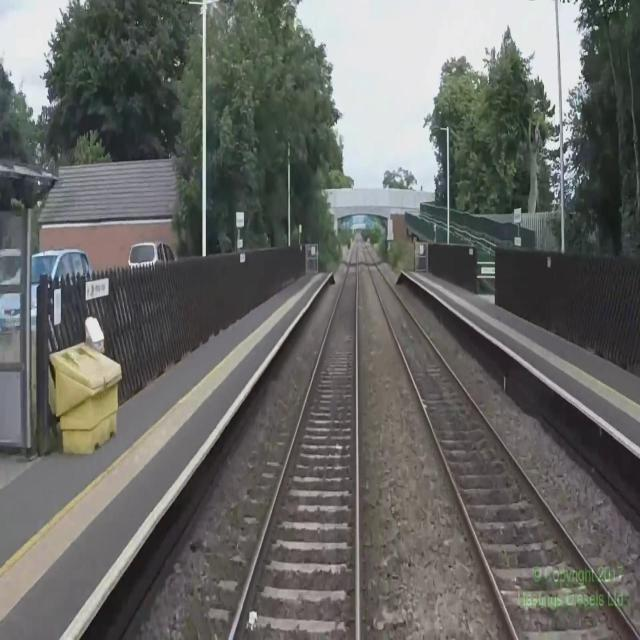rail-track: (363, 245, 637, 639), (232, 240, 357, 639)
